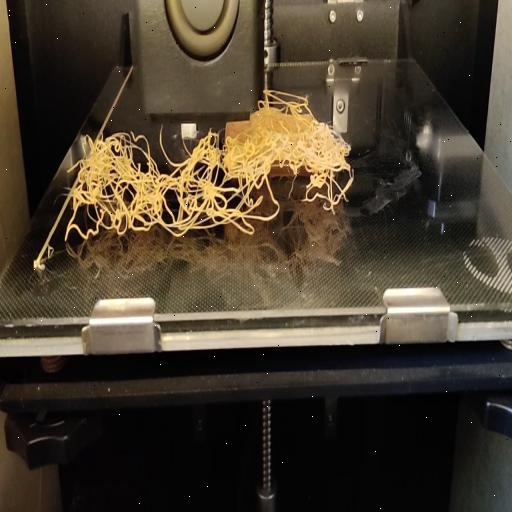spaghetti: (160, 128, 273, 247), (60, 134, 162, 260), (272, 126, 353, 209), (257, 86, 312, 132)
